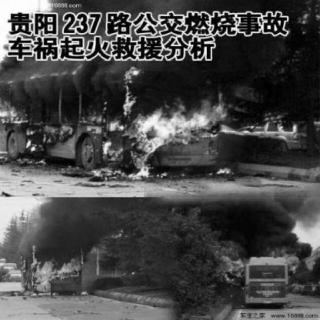Fire: (217, 238, 247, 290)
